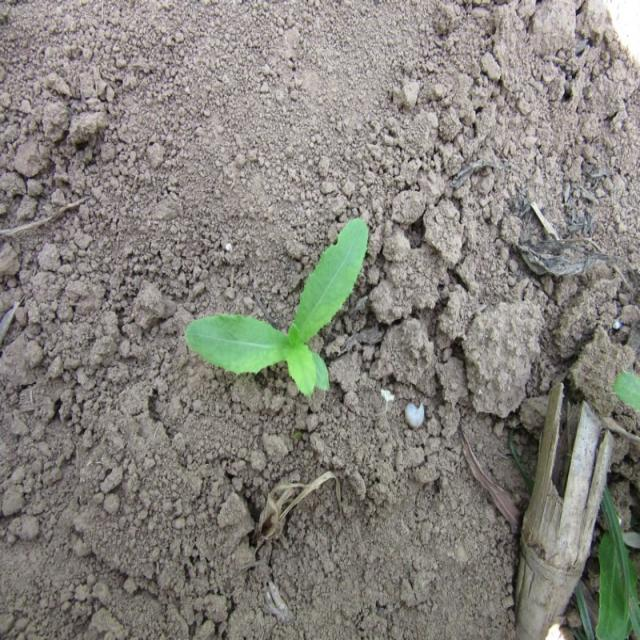field_thistle: (168, 214, 386, 417)
